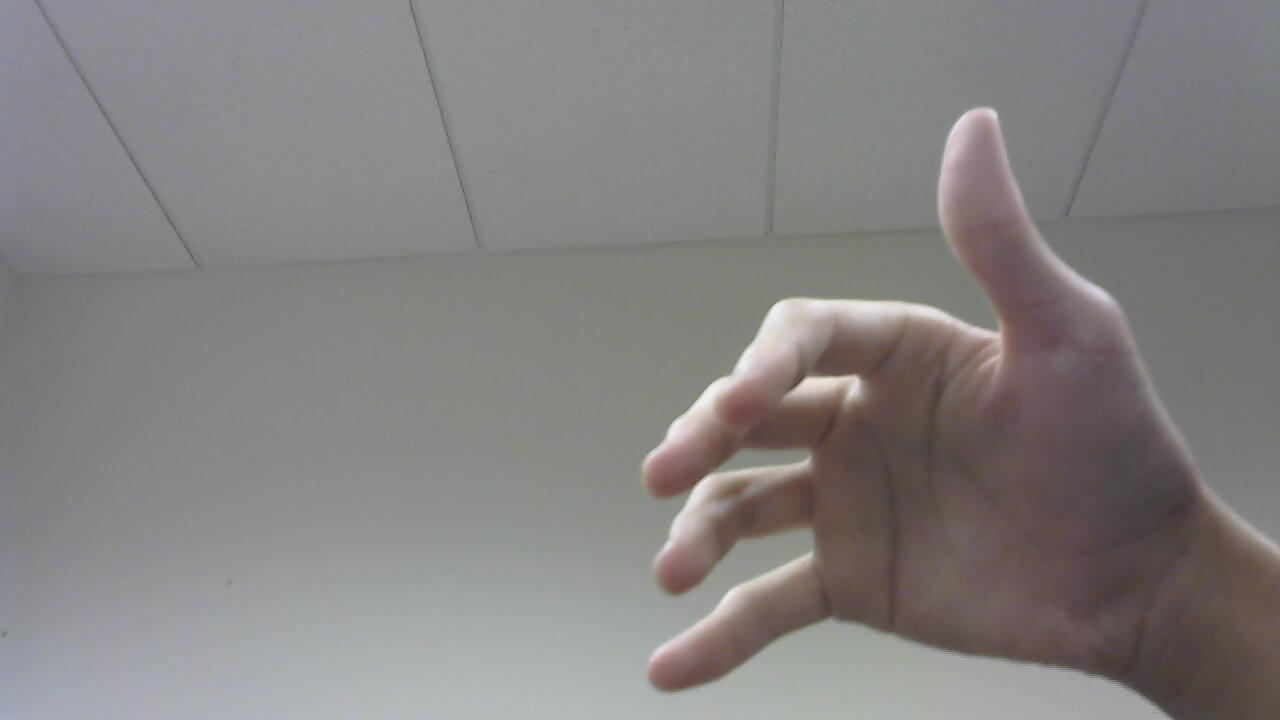hands: (646, 99, 1222, 720)
